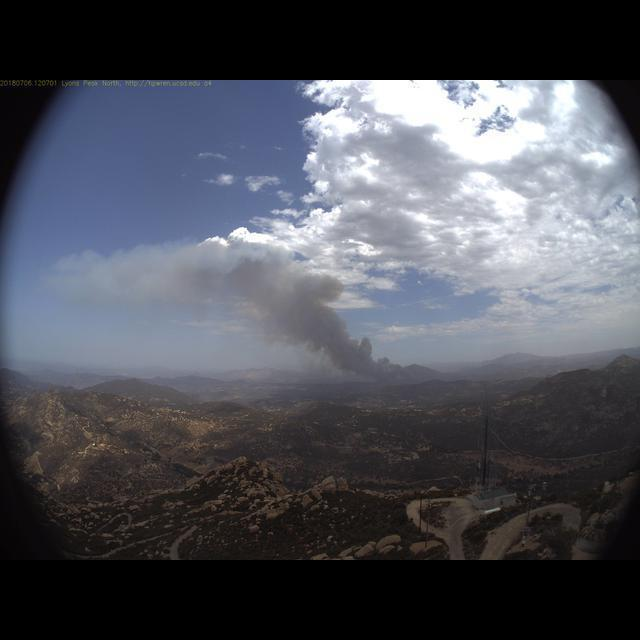Smoke: (51, 240, 441, 389)
